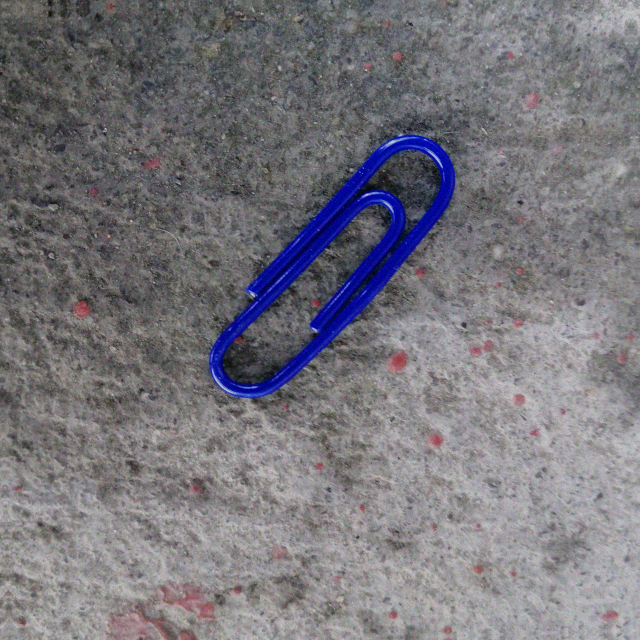pin: (209, 124, 457, 401)
